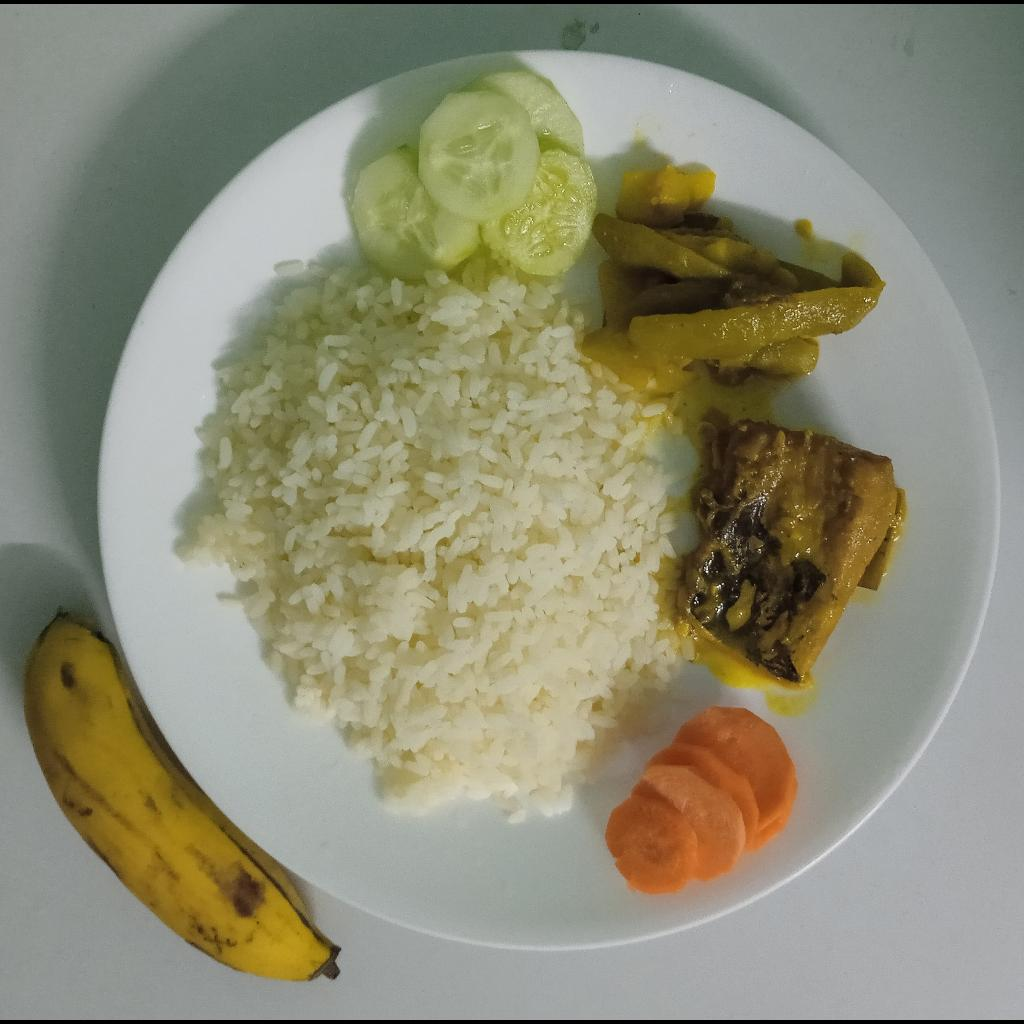banana: (22, 611, 342, 982)
carrot: (603, 708, 800, 896)
cucumber: (351, 71, 599, 277)
fish: (682, 421, 906, 694)
potol: (587, 165, 886, 396)
rice: (173, 258, 692, 823)
